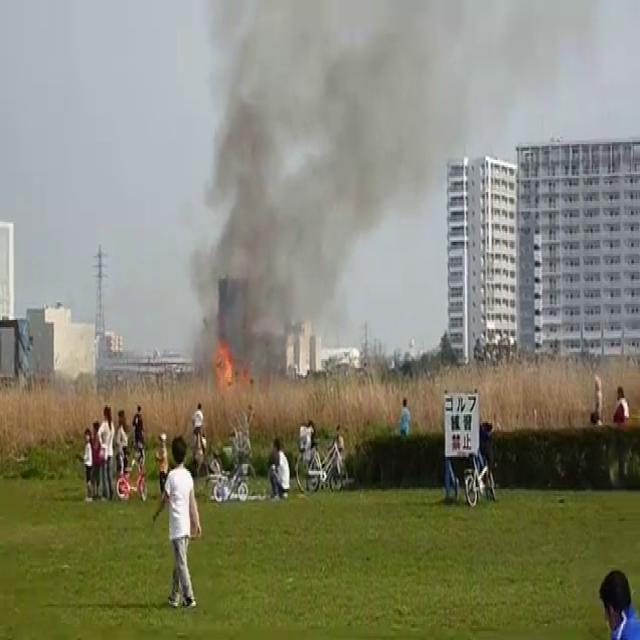Fire: (210, 330, 238, 392)
Smoke: (187, 0, 602, 379)
